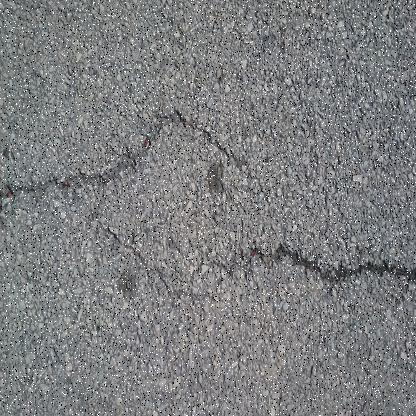Cracks: (0, 103, 251, 219), (230, 236, 416, 293)
